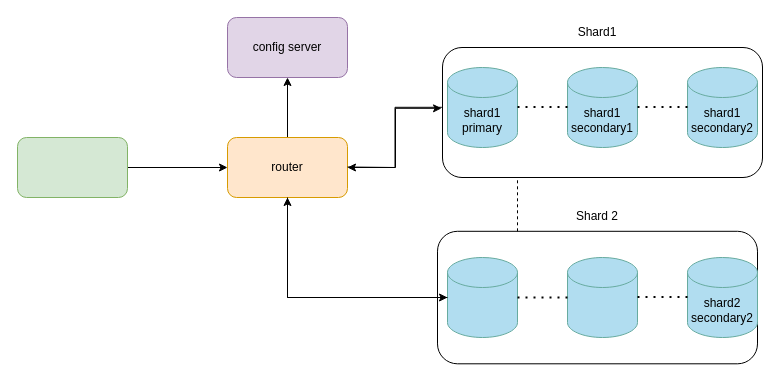
The diagram is 780 pixels wide and 382 high, and some of its shapes have lost their labels. Here are the shapes that lost their labels. From the top down, the centre of each, then its label:
[72,167]: pymongo-api
[482,297]: shard2 primary
[602,297]: shard2 secondary1
